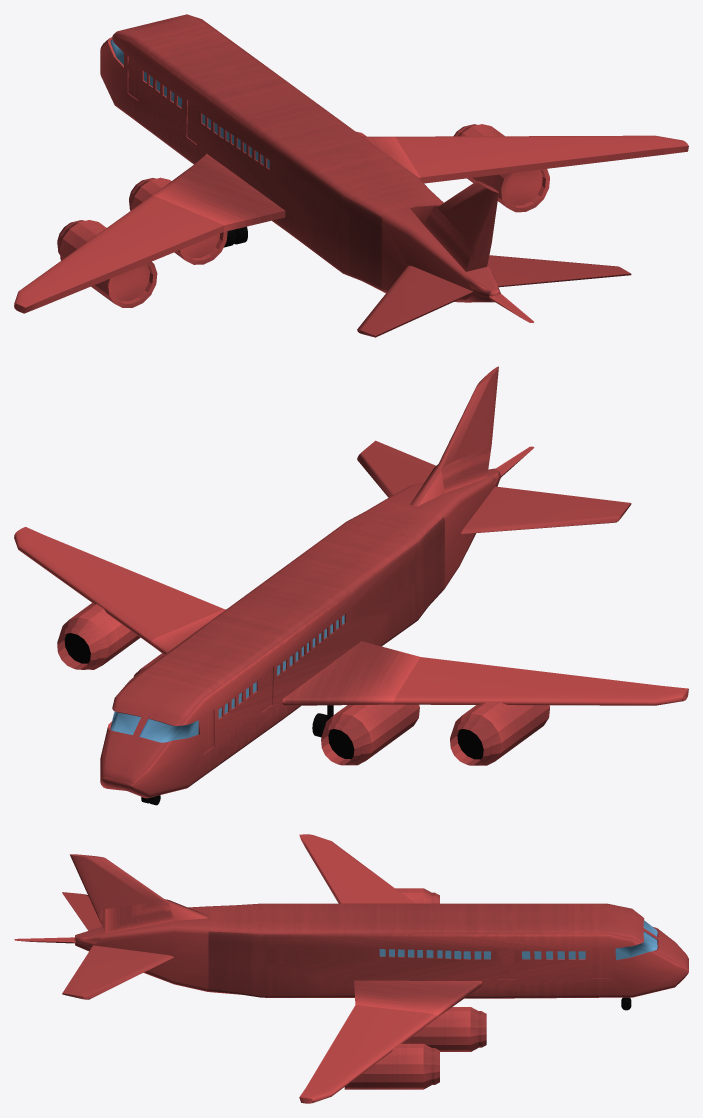
File: PESAWAT.fbx
3 views of the same model, one above another, from view 1: azimuth 30°, elevation 25°; view 2: azimuth 150°, elevation 25°; view 3: azimuth 270°, elevation 25° (orthographic). The views are drawn at different scales.
Parts seen in each view (by area): view 1: Cube, Cylinder.001, Cylinder; view 2: Cube, Cylinder.001, Cylinder; view 3: Cube, Cylinder.001, Cylinder.
Part boxes in pixels (x1,y1,x2,y2): Cube: (14,14,688,337); Cylinder.001: (57,124,549,307); Cylinder: (129,131,366,264); Cube: (14,366,688,798); Cylinder.001: (57,603,549,765); Cylinder: (133,653,419,765); Cube: (14,834,688,1103); Cylinder.001: (344,888,439,1089); Cylinder: (403,1007,486,1051).
Bounding box in the file's own units: 254 × 72.58 × 274.
